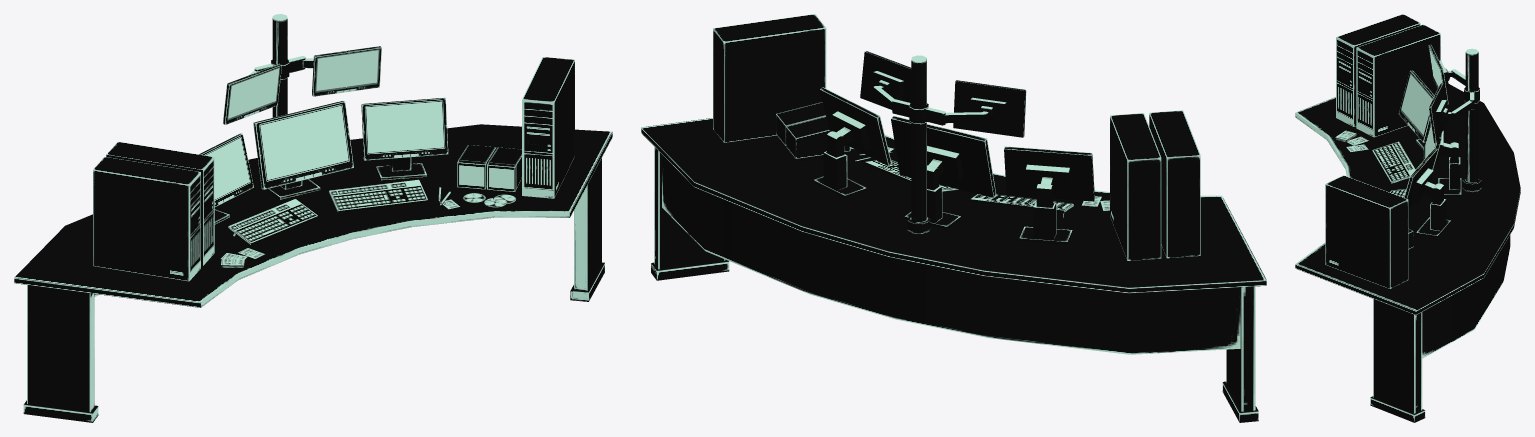
Rendered from bl080a-color.glb.
3 views of the same model, side by side, from view 1: azimuth 30°, elevation 25°; view 2: azimuth 150°, elevation 25°; view 3: azimuth 270°, elevation 25° (orthographic). The views are drawn at different scales.
Parts seen in each view (by area): view 1: role_0; view 2: role_0; view 3: role_0.
Part boxes in pixels (x1,y1,x2,y2): role_0: (14, 14, 612, 422); role_0: (641, 14, 1266, 422); role_0: (1295, 14, 1520, 422).
Size of the model in its own units: 3.4 by 1.63 by 1.32.
Materials: 1 (1 with a texture image).
